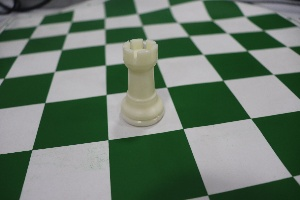white_rook: (105, 23, 174, 139)
